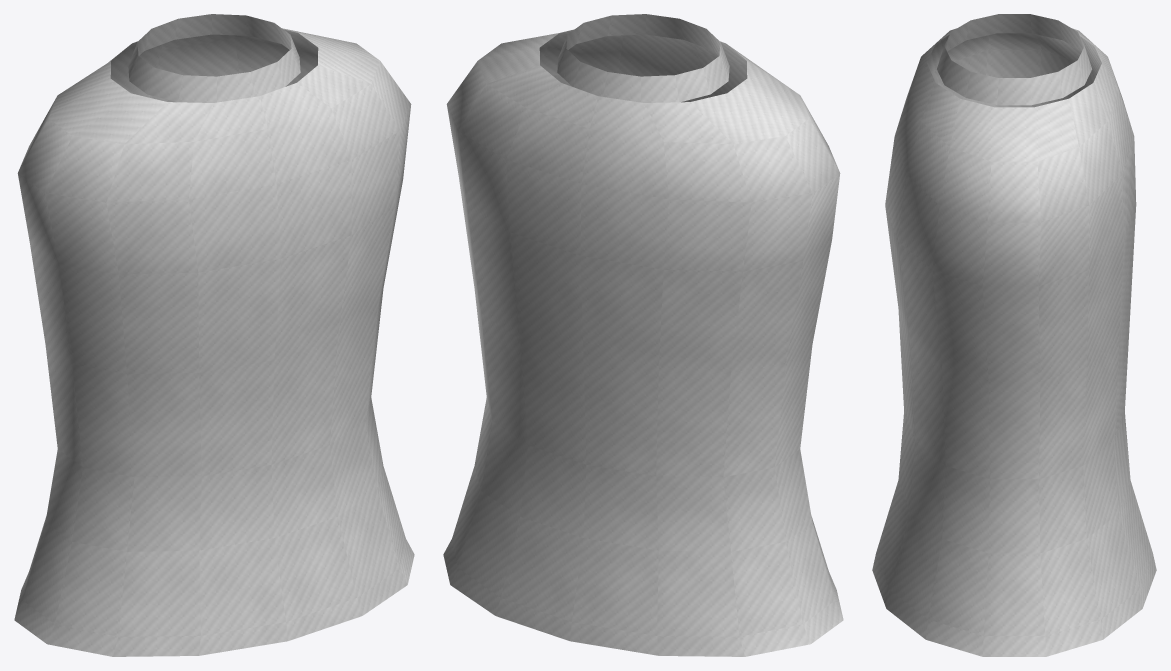
Rendered from shirt_tee_torso_m.glb.
The picture shows the model from 3 angles, left to right: view 1: azimuth 30°, elevation 25°; view 2: azimuth 150°, elevation 25°; view 3: azimuth 270°, elevation 25°; orthographic projection. The views are drawn at different scales.
Visible parts, largest first — view 1: shirt_tee_torso_m; view 2: shirt_tee_torso_m; view 3: shirt_tee_torso_m.
Boxes of the visible parts, x1,y1,x2,y2 form: shirt_tee_torso_m: (14, 14, 414, 656); shirt_tee_torso_m: (443, 14, 843, 656); shirt_tee_torso_m: (872, 14, 1156, 656).
Bounding box in the file's own units: 0.4329 × 0.61 × 0.3.
1 material, 1 textured.
